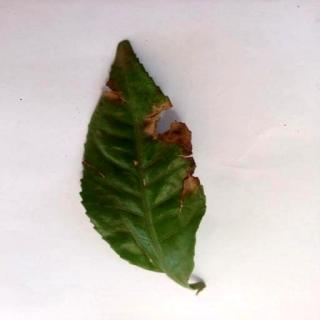Algal Leaf: (83, 40, 207, 295)
